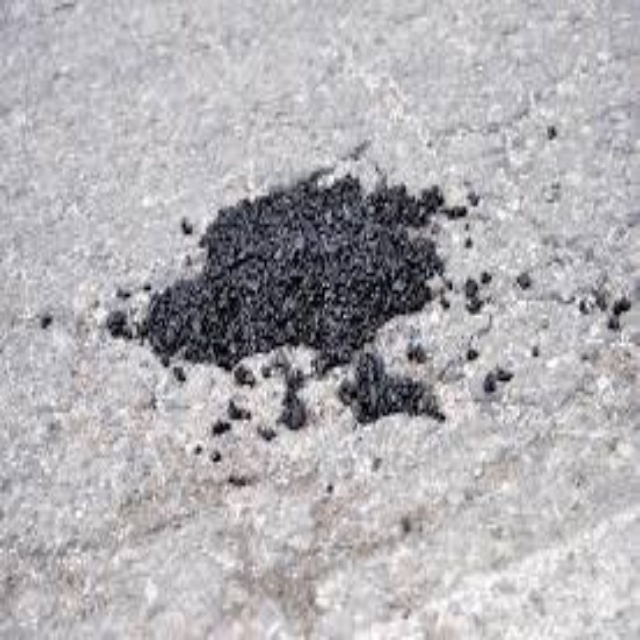pothole: (104, 171, 464, 430)
